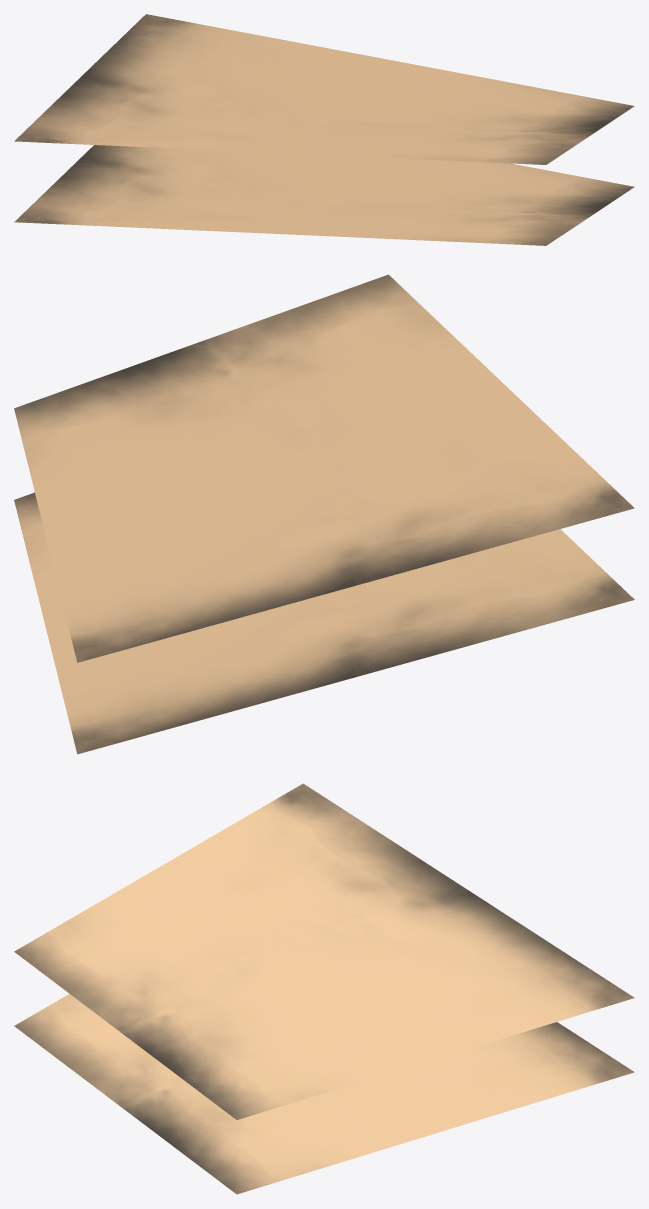
File: CourseSummer_CurveFloor_7_3.fbx
3 views of the same model, one above another, from view 1: azimuth 30°, elevation 25°; view 2: azimuth 150°, elevation 25°; view 3: azimuth 270°, elevation 25° (orthographic). The views are drawn at different scales.
Parts seen in each view (by area): view 1: polySurface226, polySurface234; view 2: polySurface226, polySurface234; view 3: polySurface226, polySurface234.
Part boxes in pixels (x1,y1,x2,y2): polySurface226: (14, 14, 634, 164); polySurface234: (14, 145, 634, 245); polySurface226: (14, 274, 634, 662); polySurface234: (14, 492, 634, 754); polySurface226: (14, 783, 634, 1119); polySurface234: (14, 994, 634, 1194).
Size of the model in its own units: 7.57 by 2 by 7.57.
Materials: 1 (1 with a texture image).
